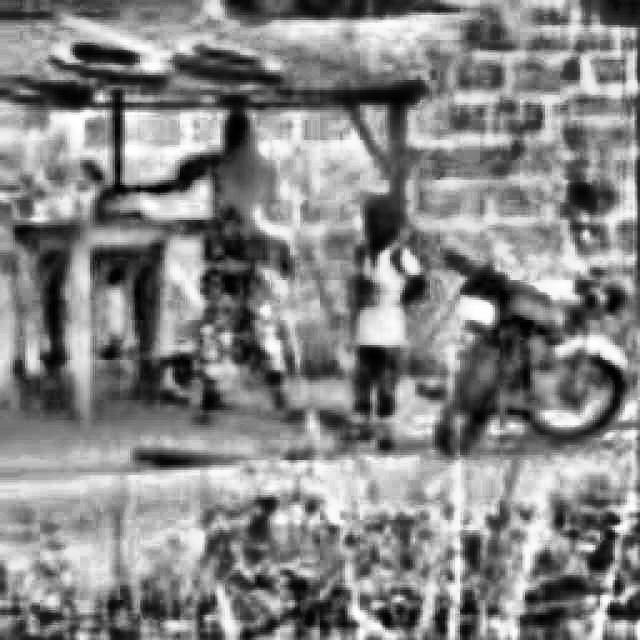motorcycle: (414, 233, 640, 457)
